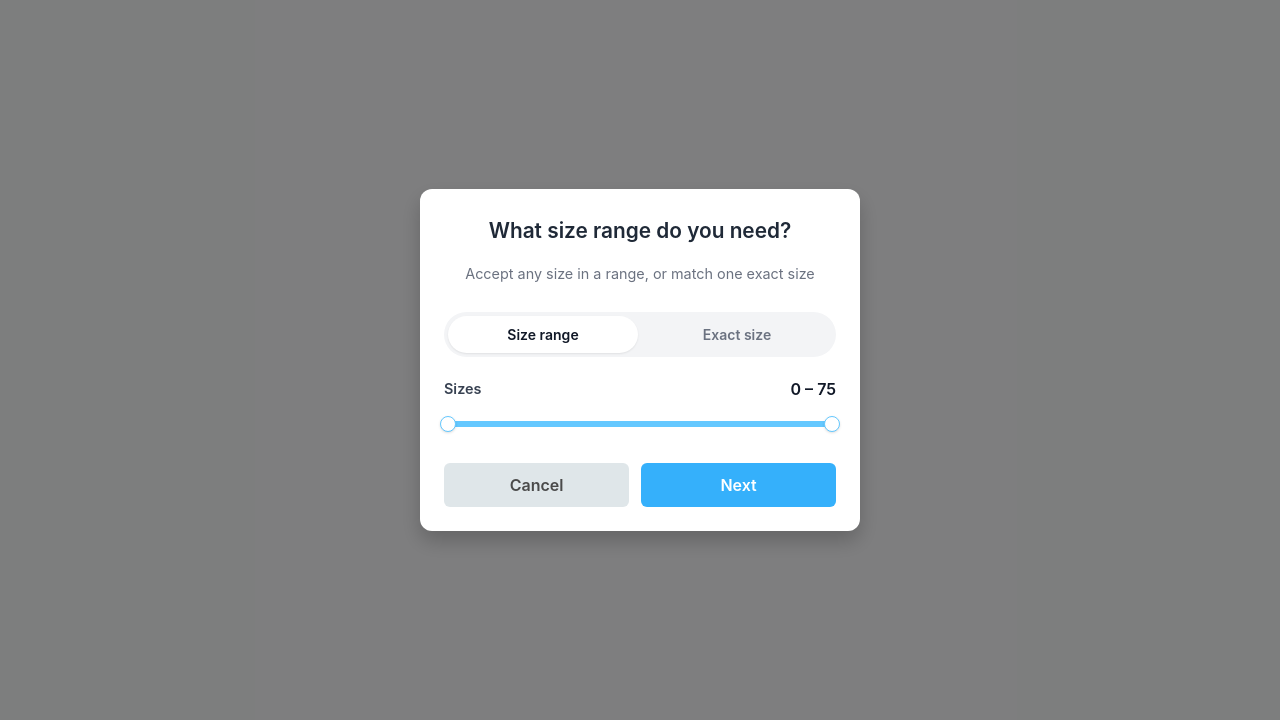
Test: QuantityModal size availability › returns to the size step from the quantity step via the back arrow
Click the button "Next": (739, 485) left=641, top=463, right=836, bottom=507
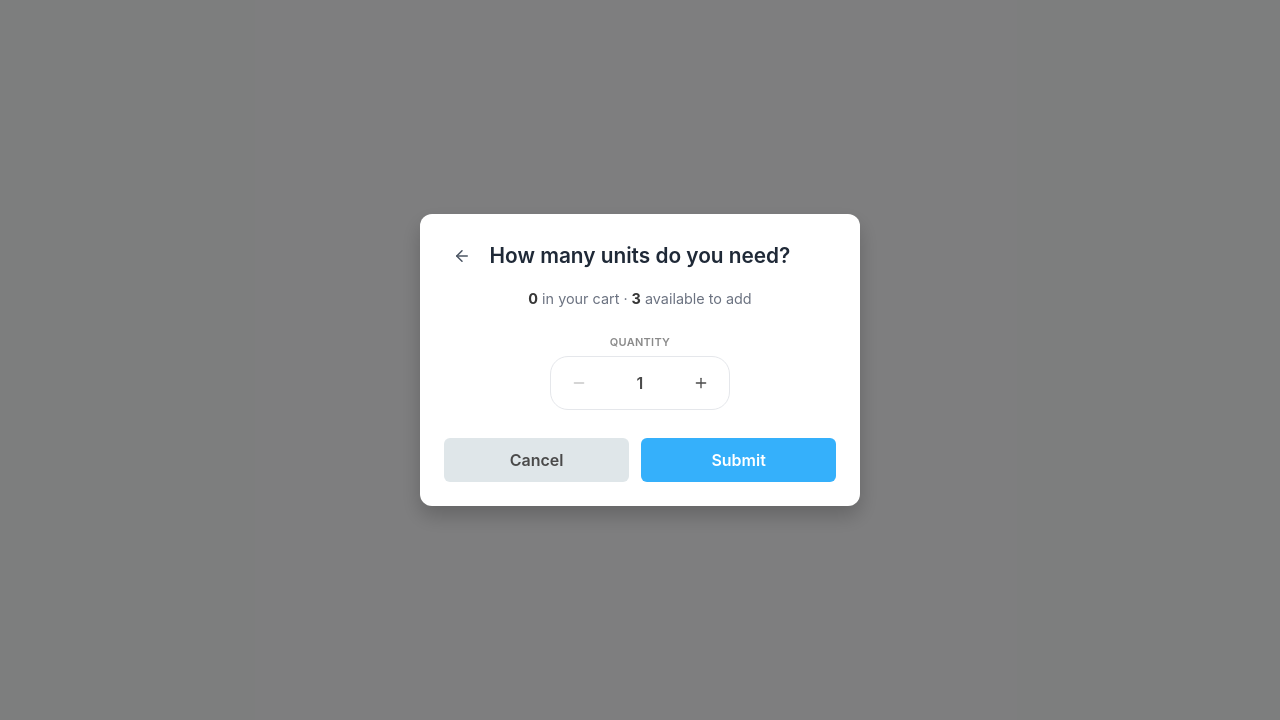
Expected: the heading "How many units do you need?" is shown, left=480, top=241, right=800, bottom=270
Click the button named "back to size selection": (462, 256) left=444, top=238, right=480, bottom=274
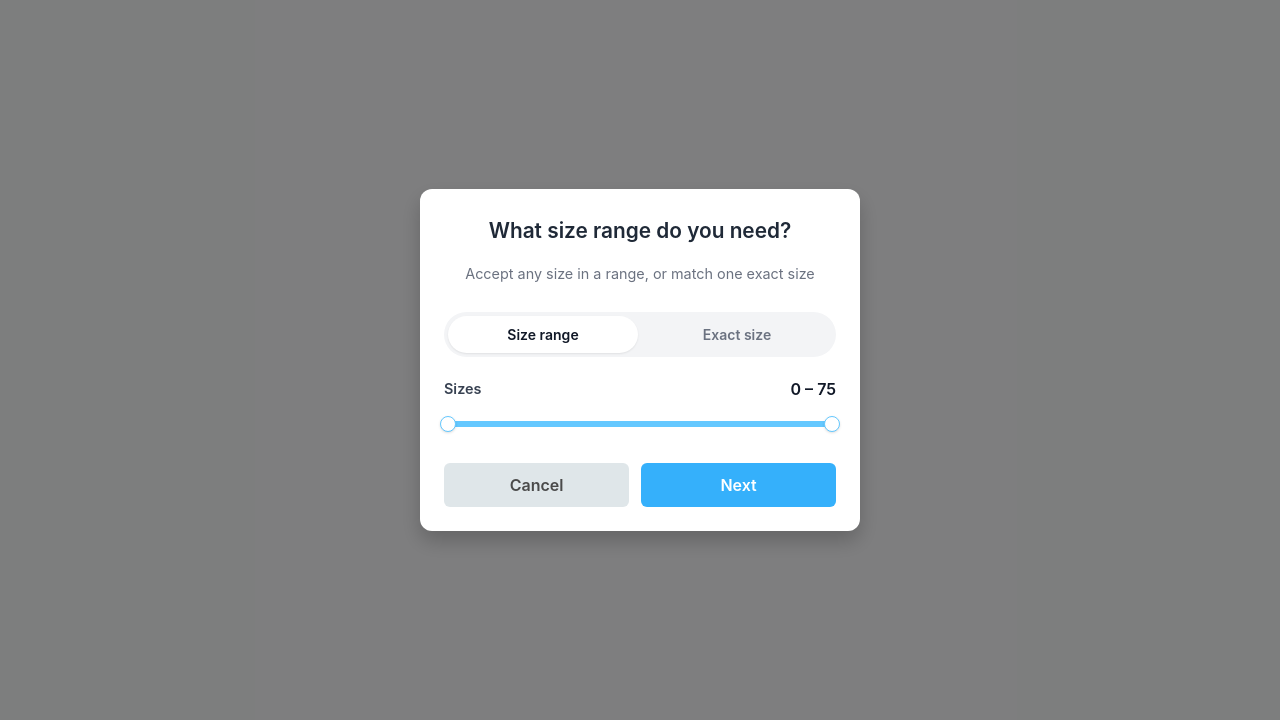
Expected: the heading "What size range do you need?" is shown, left=480, top=216, right=800, bottom=245
Expected: the heading "How many units" is gone
